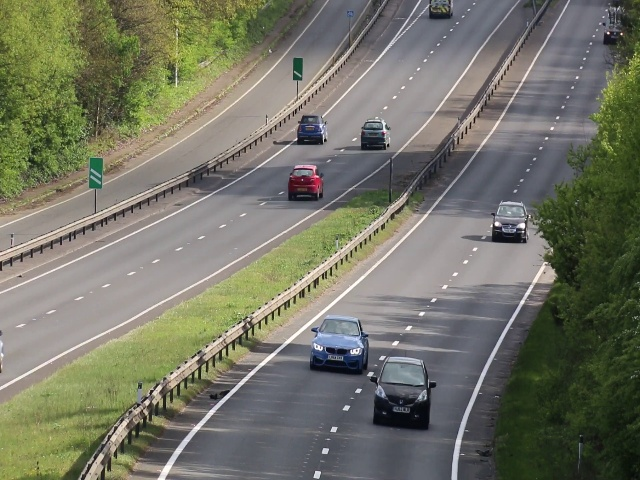car: (376, 353, 432, 427), (310, 314, 368, 371), (494, 198, 528, 241), (290, 163, 322, 200), (294, 115, 331, 144), (359, 118, 389, 153)
